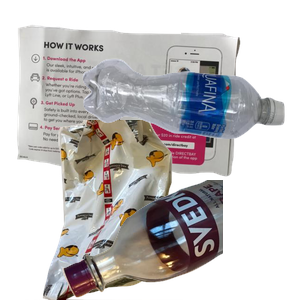glass: (60, 180, 300, 300)
paper: (14, 22, 247, 191)
plastic: (80, 56, 300, 187)
trash: (25, 120, 198, 300)
